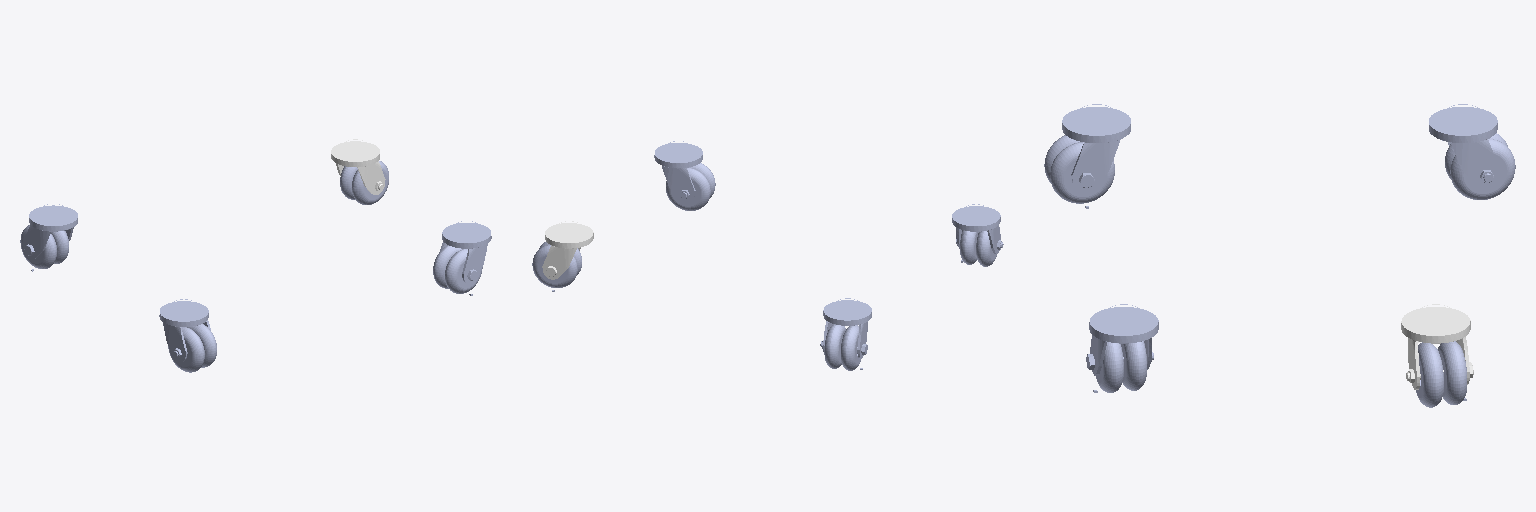
URDF robot description (FMR300):
<?xml version="1.0" encoding="utf-8"?>
<!-- This URDF was automatically created by SolidWorks to URDF Exporter! Originally created by Stephen Brawner (brawner@gmail.com) 
     Commit Version: 1.6.0-4-g7f85cfe  Build Version: 1.6.7995.38578
     For more information, please see http://wiki.ros.org/sw_urdf_exporter -->
<robot
  name="FMR300">
  <link
    name="base_link">
    <inertial>
      <origin
        xyz="-0.0023024 -0.0018183 0.46843"
        rpy="0 0 0" />
      <mass
        value="250" />
      <inertia
        ixx="0.88449"
        ixy="0.00017542"
        ixz="0.022848"
        iyy="1.325"
        iyz="-0.00040944"
        izz="1.5047" />
    </inertial>
    <visual>
      <origin
        xyz="0 0 0"
        rpy="0 0 0" />
      <geometry>
        <mesh
          filename="package://flexiv_amr_description/fmr_300/meshes/AMR.STL" />
      </geometry>
      <material
        name="">
        <color
          rgba="0.75294 0.75294 0.75294 1" />
      </material>
    </visual>
    <collision>
      <origin
        xyz="0 0 0"
        rpy="0 0 0" />
      <geometry>
        <mesh
          filename="package://flexiv_amr_description/fmr_300/meshes/AMR.STL" />
      </geometry>
    </collision>
  </link>
  <link
    name="driving_wheel">
    <inertial>
      <origin
        xyz="-9.06764386117281E-05 -0.0493227062820876 9.13568922948915E-05"
        rpy="0 0 0" />
      <mass
        value="1.26057772812278" />
      <inertia
        ixx="0.00196878456779204"
        ixy="1.53979747484883E-06"
        ixz="-3.46336856758748E-06"
        iyy="0.00374520796334388"
        iyz="1.3364373891923E-06"
        izz="0.00217238949226521" />
    </inertial>
    <visual>
      <origin
        xyz="0 0 0"
        rpy="0 0 0" />
      <geometry>
        <mesh
          filename="package://flexiv_amr_description/fmr_300/meshes/driving_wheel.STL" />
      </geometry>
      <material
        name="">
        <color
          rgba="0.792156862745098 0.819607843137255 0.933333333333333 1" />
      </material>
    </visual>
    <collision>
      <origin
        xyz="0 0 0"
        rpy="0 0 0" />
      <geometry>
        <mesh
          filename="package://flexiv_amr_description/fmr_300/meshes/driving_wheel.STL" />
      </geometry>
    </collision>
  </link>
  <joint
    name="driving_wheel1"
    type="continuous">
    <origin
      xyz="0 0.2858 0.0825"
      rpy="0 0 0" />
    <parent
      link="base_link" />
    <child
      link="driving_wheel" />
    <axis
      xyz="0 1 0" />
  </joint>
  <link
    name="driving_wheel2">
    <inertial>
      <origin
        xyz="9.06764996809126E-05 0.0493227062820689 9.13568197185022E-05"
        rpy="0 0 0" />
      <mass
        value="1.26057772812207" />
      <inertia
        ixx="0.00196878456870053"
        ixy="1.53979744375E-06"
        ixz="3.46336455849254E-06"
        iyy="0.00374520796334207"
        iyz="-1.3364373560009E-06"
        izz="0.00217238949135589" />
    </inertial>
    <visual>
      <origin
        xyz="0 0 0"
        rpy="0 0 0" />
      <geometry>
        <mesh
          filename="package://flexiv_amr_description/fmr_300/meshes/driving_wheel2.STL" />
      </geometry>
      <material
        name="">
        <color
          rgba="0.792156862745098 0.819607843137255 0.933333333333333 1" />
      </material>
    </visual>
    <collision>
      <origin
        xyz="0 0 0"
        rpy="0 0 0" />
      <geometry>
        <mesh
          filename="package://flexiv_amr_description/fmr_300/meshes/driving_wheel2.STL" />
      </geometry>
    </collision>
  </link>
  <joint
    name="driving_wheel2"
    type="continuous">
    <origin
      xyz="0 -0.2858 0.0825"
      rpy="0 0 0" />
    <parent
      link="base_link" />
    <child
      link="driving_wheel2" />
    <axis
      xyz="0 -1 0" />
  </joint>
  <link
    name="universal_wheel1">
    <inertial>
      <origin
        xyz="-0.0010879795287409 0.00388696244652245 -0.0176393476865022"
        rpy="0 0 0" />
      <mass
        value="0.0818891380703348" />
      <inertia
        ixx="5.91872581994778E-05"
        ixy="-2.84487323932676E-06"
        ixz="-3.07938914915051E-06"
        iyy="7.1064823969666E-05"
        iyz="1.07932761271879E-05"
        izz="6.62650018504877E-05" />
    </inertial>
    <visual>
      <origin
        xyz="0 0 0"
        rpy="0 0 0" />
      <geometry>
        <mesh
          filename="package://flexiv_amr_description/fmr_300/meshes/universal_wheel1.STL" />
      </geometry>
      <material
        name="">
        <color
          rgba="0.792156862745098 0.819607843137255 0.933333333333333 1" />
      </material>
    </visual>
    <collision>
      <origin
        xyz="0 0 0"
        rpy="0 0 0" />
      <geometry>
        <mesh
          filename="package://flexiv_amr_description/fmr_300/meshes/universal_wheel1.STL" />
      </geometry>
    </collision>
  </link>
  <joint
    name="universal_wheel1"
    type="continuous">
    <origin
      xyz="-0.287 0.209 0.0945"
      rpy="0 0 0" />
    <parent
      link="base_link" />
    <child
      link="universal_wheel1" />
    <axis
      xyz="0 0 -1" />
  </joint>
  <link
    name="universal_wheel11">
    <inertial>
      <origin
        xyz="0.0257395931351377 -3.44713817601594E-07 -7.29269674626387E-06"
        rpy="0 0 0" />
      <mass
        value="0.164828810163177" />
      <inertia
        ixx="0.00011565297044345"
        ixy="3.49981437992013E-12"
        ixz="-1.37274836403732E-11"
        iyy="6.43246519295217E-05"
        iyz="1.72863122497719E-11"
        izz="6.43235182017835E-05" />
    </inertial>
    <visual>
      <origin
        xyz="0 0 0"
        rpy="0 0 0" />
      <geometry>
        <mesh
          filename="package://flexiv_amr_description/fmr_300/meshes/universal_wheel11.STL" />
      </geometry>
      <material
        name="">
        <color
          rgba="0.792156862745098 0.819607843137255 0.933333333333333 1" />
      </material>
    </visual>
    <collision>
      <origin
        xyz="0 0 0"
        rpy="0 0 0" />
      <geometry>
        <mesh
          filename="package://flexiv_amr_description/fmr_300/meshes/universal_wheel11.STL" />
      </geometry>
    </collision>
  </link>
  <joint
    name="universal_wheel11"
    type="continuous">
    <origin
      xyz="-0.029728 0.01338 -0.0564"
      rpy="0 0 0.23754" />
    <parent
      link="universal_wheel1" />
    <child
      link="universal_wheel11" />
    <axis
      xyz="1 0 0" />
  </joint>
  <link
    name="universal_wheel2">
    <inertial>
      <origin
        xyz="0.0010879795287409 -0.00388696244652265 -0.0176393476865022"
        rpy="0 0 0" />
      <mass
        value="0.081889138070335" />
      <inertia
        ixx="5.91872581994779E-05"
        ixy="-2.84487323932687E-06"
        ixz="3.07938914915037E-06"
        iyy="7.10648239696664E-05"
        iyz="-1.07932761271881E-05"
        izz="6.62650018504879E-05" />
    </inertial>
    <visual>
      <origin
        xyz="0 0 0"
        rpy="0 0 0" />
      <geometry>
        <mesh
          filename="package://flexiv_amr_description/fmr_300/meshes/universal_wheel2.STL" />
      </geometry>
      <material
        name="">
        <color
          rgba="0.792156862745098 0.819607843137255 0.933333333333333 1" />
      </material>
    </visual>
    <collision>
      <origin
        xyz="0 0 0"
        rpy="0 0 0" />
      <geometry>
        <mesh
          filename="package://flexiv_amr_description/fmr_300/meshes/universal_wheel2.STL" />
      </geometry>
    </collision>
  </link>
  <joint
    name="universal_wheel2"
    type="continuous">
    <origin
      xyz="-0.287 -0.209 0.0945"
      rpy="0 0 0" />
    <parent
      link="base_link" />
    <child
      link="universal_wheel2" />
    <axis
      xyz="0 0 -1" />
  </joint>
  <link
    name="universal_wheel22">
    <inertial>
      <origin
        xyz="0.0257395931351379 -3.44713817546083E-07 -7.29269674581978E-06"
        rpy="0 0 0" />
      <mass
        value="0.164828810163178" />
      <inertia
        ixx="0.00011565297044345"
        ixy="3.49981446208232E-12"
        ixz="-1.37274836147788E-11"
        iyy="6.43246519295217E-05"
        iyz="1.72863120559384E-11"
        izz="6.43235182017836E-05" />
    </inertial>
    <visual>
      <origin
        xyz="0 0 0"
        rpy="0 0 0" />
      <geometry>
        <mesh
          filename="package://flexiv_amr_description/fmr_300/meshes/universal_wheel22.STL" />
      </geometry>
      <material
        name="">
        <color
          rgba="0.792156862745098 0.819607843137255 0.933333333333333 1" />
      </material>
    </visual>
    <collision>
      <origin
        xyz="0 0 0"
        rpy="0 0 0" />
      <geometry>
        <mesh
          filename="package://flexiv_amr_description/fmr_300/meshes/universal_wheel22.STL" />
      </geometry>
    </collision>
  </link>
  <joint
    name="universal_wheel22"
    type="continuous">
    <origin
      xyz="0.0297283654014721 -0.0133801836891925 -0.0564"
      rpy="0 0 -2.90404949909861" />
    <parent
      link="universal_wheel2" />
    <child
      link="universal_wheel22" />
    <axis
      xyz="1 0 0" />
  </joint>
  <link
    name="universal_wheel3">
    <inertial>
      <origin
        xyz="-0.00388696244652256 -0.00108797952874101 -0.0176393476865018"
        rpy="0 0 0" />
      <mass
        value="0.0818891380703349" />
      <inertia
        ixx="7.10648239696663E-05"
        ixy="2.84487323932669E-06"
        ixz="-1.07932761271881E-05"
        iyy="5.91872581994777E-05"
        iyz="-3.07938914915032E-06"
        izz="6.62650018504876E-05" />
    </inertial>
    <visual>
      <origin
        xyz="0 0 0"
        rpy="0 0 0" />
      <geometry>
        <mesh
          filename="package://flexiv_amr_description/fmr_300/meshes/universal_wheel3.STL" />
      </geometry>
      <material
        name="">
        <color
          rgba="0.792156862745098 0.819607843137255 0.933333333333333 1" />
      </material>
    </visual>
    <collision>
      <origin
        xyz="0 0 0"
        rpy="0 0 0" />
      <geometry>
        <mesh
          filename="package://flexiv_amr_description/fmr_300/meshes/universal_wheel3.STL" />
      </geometry>
    </collision>
  </link>
  <joint
    name="universal_wheel3"
    type="continuous">
    <origin
      xyz="0.2535 -0.178 0.0945"
      rpy="0 0 0" />
    <parent
      link="base_link" />
    <child
      link="universal_wheel3" />
    <axis
      xyz="0 0 -1" />
  </joint>
  <link
    name="universal_wheel33">
    <inertial>
      <origin
        xyz="0.0257395931351377 -3.44713817490572E-07 -7.29269674604183E-06"
        rpy="0 0 0" />
      <mass
        value="0.164828810163178" />
      <inertia
        ixx="0.000115652970443451"
        ixy="3.49981439262562E-12"
        ixz="-1.37274836688913E-11"
        iyy="6.43246519295222E-05"
        iyz="1.72863121061089E-11"
        izz="6.43235182017836E-05" />
    </inertial>
    <visual>
      <origin
        xyz="0 0 0"
        rpy="0 0 0" />
      <geometry>
        <mesh
          filename="package://flexiv_amr_description/fmr_300/meshes/universal_wheel33.STL" />
      </geometry>
      <material
        name="">
        <color
          rgba="0.792156862745098 0.819607843137255 0.933333333333333 1" />
      </material>
    </visual>
    <collision>
      <origin
        xyz="0 0 0"
        rpy="0 0 0" />
      <geometry>
        <mesh
          filename="package://flexiv_amr_description/fmr_300/meshes/universal_wheel33.STL" />
      </geometry>
    </collision>
  </link>
  <joint
    name="universal_wheel33"
    type="continuous">
    <origin
      xyz="-0.0133801836891926 -0.029728365401472 -0.0564"
      rpy="0 0 1.80833948128608" />
    <parent
      link="universal_wheel3" />
    <child
      link="universal_wheel33" />
    <axis
      xyz="1 0 0" />
  </joint>
  <link
    name="universal_wheel4">
    <inertial>
      <origin
        xyz="0 0 0"
        rpy="0 0 0" />
      <mass
        value="0" />
      <inertia
        ixx="0"
        ixy="0"
        ixz="0"
        iyy="0"
        iyz="0"
        izz="0" />
    </inertial>
    <visual>
      <origin
        xyz="0 0 0"
        rpy="0 0 0" />
      <geometry>
        <mesh
          filename="package://flexiv_amr_description/fmr_300/meshes/universal_wheel4.STL" />
      </geometry>
      <material
        name="">
        <color
          rgba="1 1 1 1" />
      </material>
    </visual>
    <collision>
      <origin
        xyz="0 0 0"
        rpy="0 0 0" />
      <geometry>
        <mesh
          filename="package://flexiv_amr_description/fmr_300/meshes/universal_wheel4.STL" />
      </geometry>
    </collision>
  </link>
  <joint
    name="universal_wheel4"
    type="continuous">
    <origin
      xyz="0.2535 0.178 0.0945"
      rpy="0 0 0" />
    <parent
      link="base_link" />
    <child
      link="universal_wheel4" />
    <axis
      xyz="0 0 -1" />
  </joint>
  <link
    name="universal_wheel44">
    <inertial>
      <origin
        xyz="0.0257395931351378 -3.44713817546083E-07 -7.29269674626387E-06"
        rpy="0 0 0" />
      <mass
        value="0.164828810163178" />
      <inertia
        ixx="0.00011565297044345"
        ixy="3.49981433418034E-12"
        ixz="-1.37274836381953E-11"
        iyy="6.43246519295219E-05"
        iyz="1.72863118968994E-11"
        izz="6.43235182017836E-05" />
    </inertial>
    <visual>
      <origin
        xyz="0 0 0"
        rpy="0 0 0" />
      <geometry>
        <mesh
          filename="package://flexiv_amr_description/fmr_300/meshes/universal_wheel44.STL" />
      </geometry>
      <material
        name="">
        <color
          rgba="0.792156862745098 0.819607843137255 0.933333333333333 1" />
      </material>
    </visual>
    <collision>
      <origin
        xyz="0 0 0"
        rpy="0 0 0" />
      <geometry>
        <mesh
          filename="package://flexiv_amr_description/fmr_300/meshes/universal_wheel44.STL" />
      </geometry>
    </collision>
  </link>
  <joint
    name="universal_wheel44"
    type="continuous">
    <origin
      xyz="0.0133801836891926 0.0297283654014721 -0.0564"
      rpy="0 0 -1.33325317230372" />
    <parent
      link="universal_wheel4" />
    <child
      link="universal_wheel44" />
    <axis
      xyz="1 0 0" />
  </joint>

  <link name="imu_link" />
  <joint name="imu_joint" type="fixed">
    <origin
      xyz="0 0 0.2"
      rpy="0 0 0" />
    <parent
      link="base_link" />
    <child
      link="imu_link" />
  </joint>

</robot>

--- Facts derived from the render (not from the file) ---
Views: 3 orthographic renders of the robot side by side, from view 1: azimuth 30°, elevation 25°; view 2: azimuth 150°, elevation 25°; view 3: azimuth 270°, elevation 25°.
Robot: FMR300 — 12 links, 11 joints (10 continuous, 1 fixed); root link base_link; default pose: all joints at 0.
Links seen in each view (by area): view 1: universal_wheel4, universal_wheel3, universal_wheel1, universal_wheel2, universal_wheel22, universal_wheel33, universal_wheel44, universal_wheel11; view 2: universal_wheel3, universal_wheel4, universal_wheel1, universal_wheel2, universal_wheel11, universal_wheel33, universal_wheel22, universal_wheel44; view 3: universal_wheel2, universal_wheel1, universal_wheel4, universal_wheel3, universal_wheel44, universal_wheel22, universal_wheel33, universal_wheel11.
Boxes of the visible links, bbox=[...] form: universal_wheel4: bbox=[331, 139, 385, 194]; universal_wheel3: bbox=[440, 221, 491, 283]; universal_wheel1: bbox=[24, 204, 77, 258]; universal_wheel2: bbox=[159, 299, 210, 361]; universal_wheel22: bbox=[168, 324, 216, 372]; universal_wheel33: bbox=[433, 245, 482, 295]; universal_wheel44: bbox=[340, 161, 388, 204]; universal_wheel11: bbox=[20, 225, 68, 271]; universal_wheel3: bbox=[654, 141, 702, 202]; universal_wheel4: bbox=[542, 221, 593, 279]; universal_wheel1: bbox=[820, 298, 871, 358]; universal_wheel2: bbox=[952, 204, 1003, 254]; universal_wheel11: bbox=[824, 324, 862, 370]; universal_wheel33: bbox=[666, 163, 715, 210]; universal_wheel22: bbox=[960, 230, 996, 266]; universal_wheel44: bbox=[532, 242, 581, 291]; universal_wheel2: bbox=[1062, 104, 1130, 191]; universal_wheel1: bbox=[1429, 104, 1500, 187]; universal_wheel4: bbox=[1401, 304, 1473, 389]; universal_wheel3: bbox=[1086, 304, 1158, 375]; universal_wheel44: bbox=[1416, 341, 1466, 407]; universal_wheel22: bbox=[1044, 135, 1114, 208]; universal_wheel33: bbox=[1093, 341, 1146, 392]; universal_wheel11: bbox=[1445, 133, 1515, 199].
Bounding box of the posed robot: 0.6432 × 0.5375 × 0.107 m (x, y, z).
8 mesh visuals loaded from 11 distinct referenced files (8 binary STL); not drawn: 3 (reference not matched to a file when rendering).
